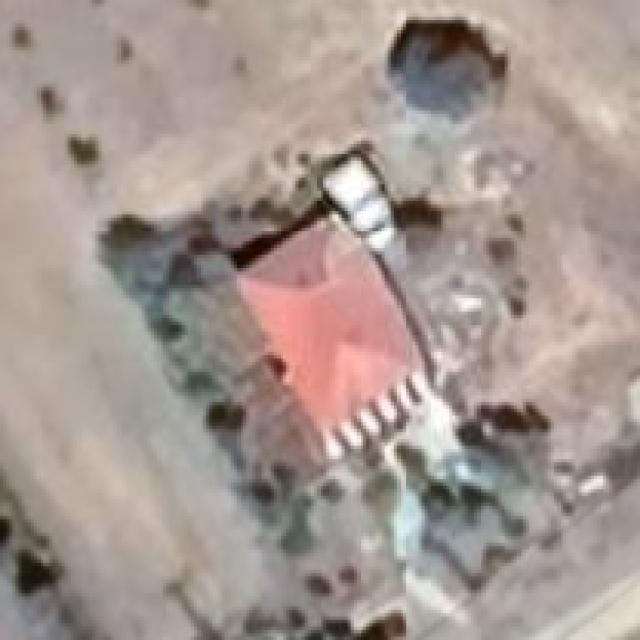Batiment: (238, 219, 411, 429), (320, 150, 396, 252)
